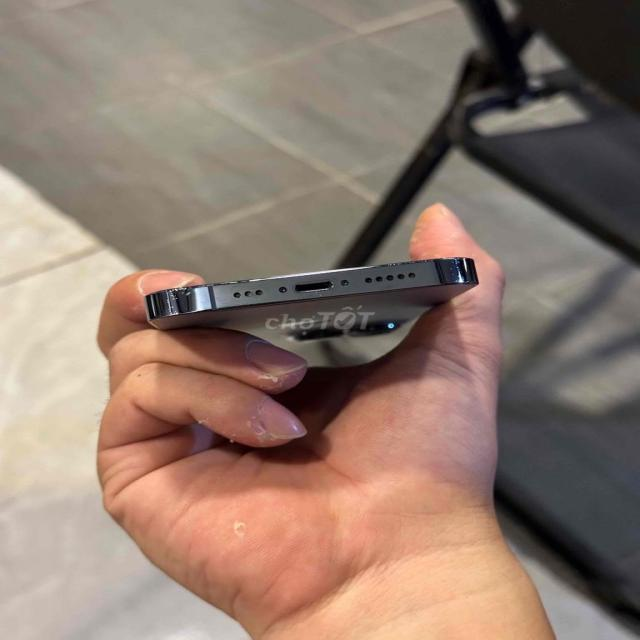gen_12_13: (138, 248, 502, 362)
scratch: (215, 258, 433, 288), (158, 280, 216, 324), (431, 254, 482, 288)
